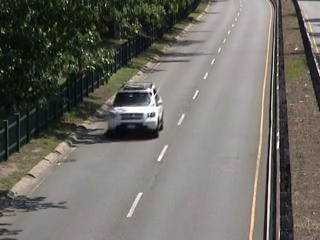car: (105, 80, 168, 142)
